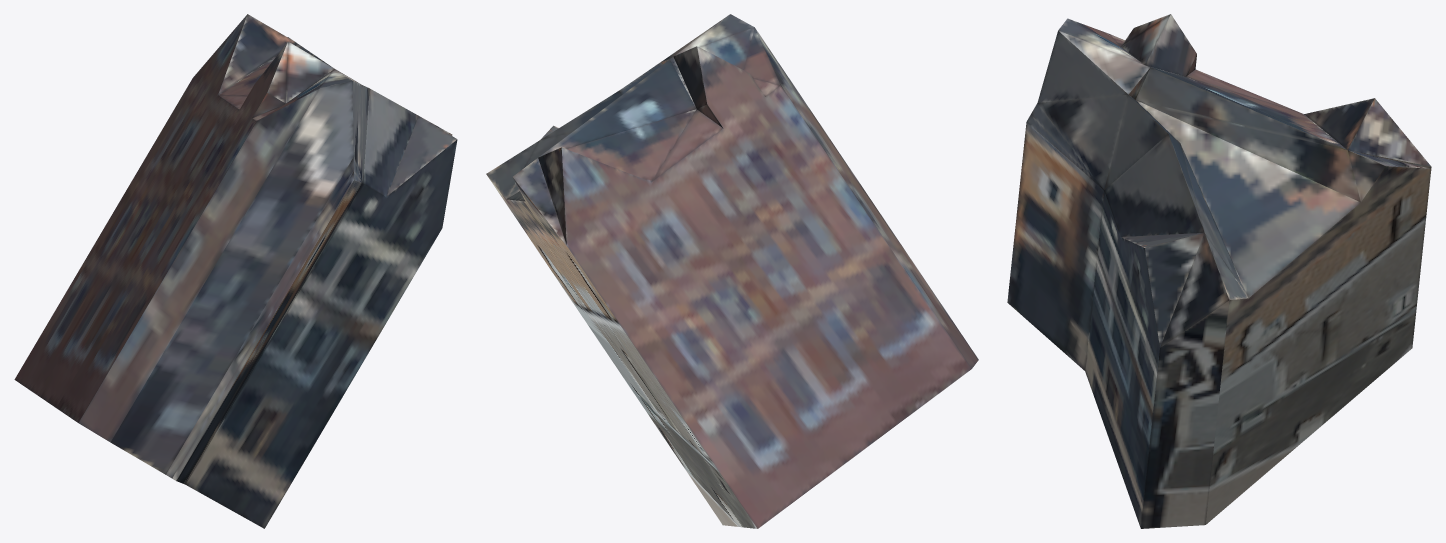
The picture shows the model from 3 angles, left to right: view 1: azimuth 30°, elevation 25°; view 2: azimuth 150°, elevation 25°; view 3: azimuth 270°, elevation 25°; orthographic projection. The views are drawn at different scales.
Parts seen in each view (by area): view 1: BAG_0599100000631930 (×6); view 2: BAG_0599100000631930 (×6); view 3: BAG_0599100000631930 (×7).
Boxes of the visible parts, box(x1,y1,x2,y2) form: BAG_0599100000631930 (×6): box(14, 14, 457, 528); BAG_0599100000631930 (×6): box(486, 14, 978, 528); BAG_0599100000631930 (×7): box(1007, 14, 1431, 528).
Size of the model in its own units: 19.99 by 20.59 by 14.79.
1 material, 1 textured.
